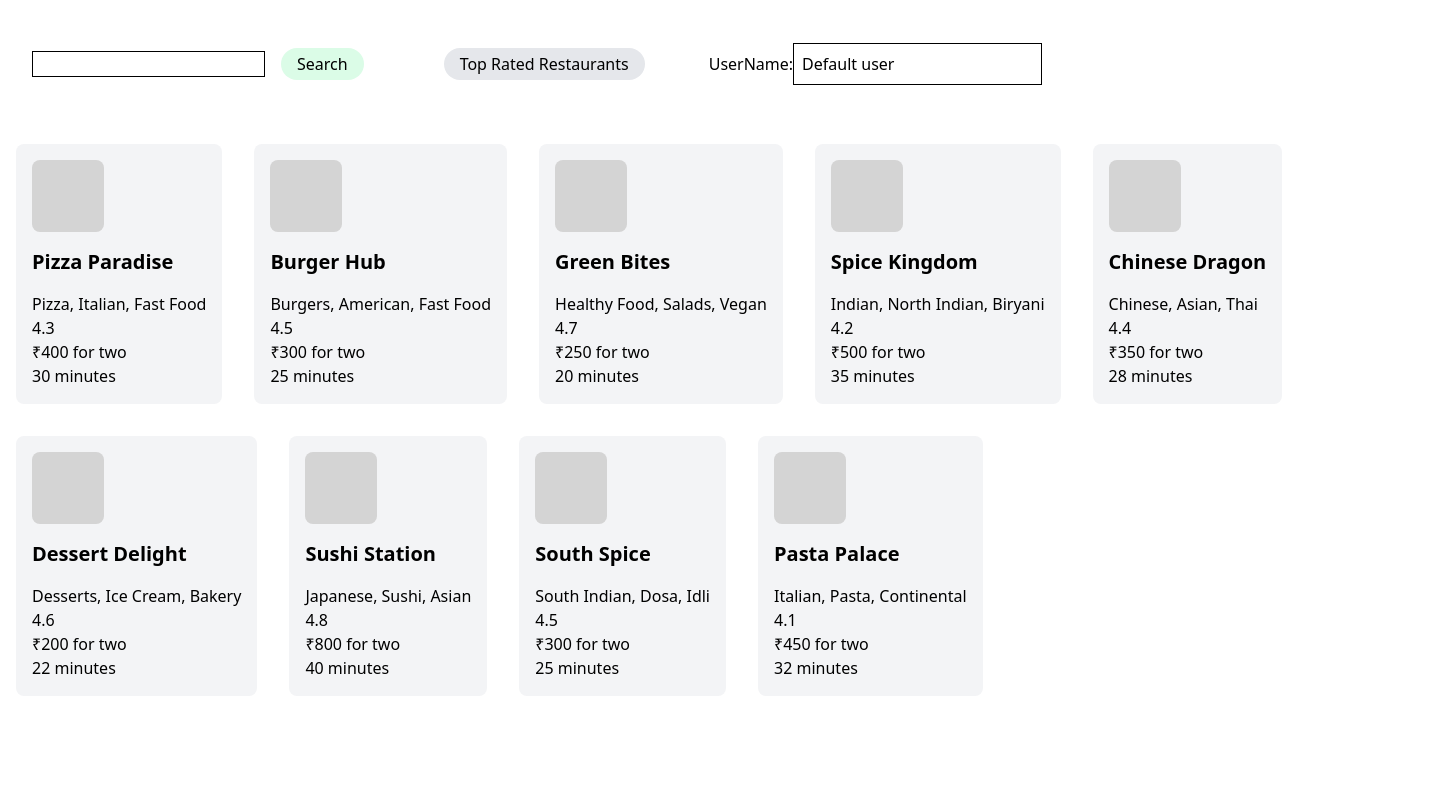
Scenario: Should filter Top Rated Restaurant
This screenshot has width=1440, height=810.
Click the button "Top Rated Restaurants" at (544,64), box 444,48 -> 645,80
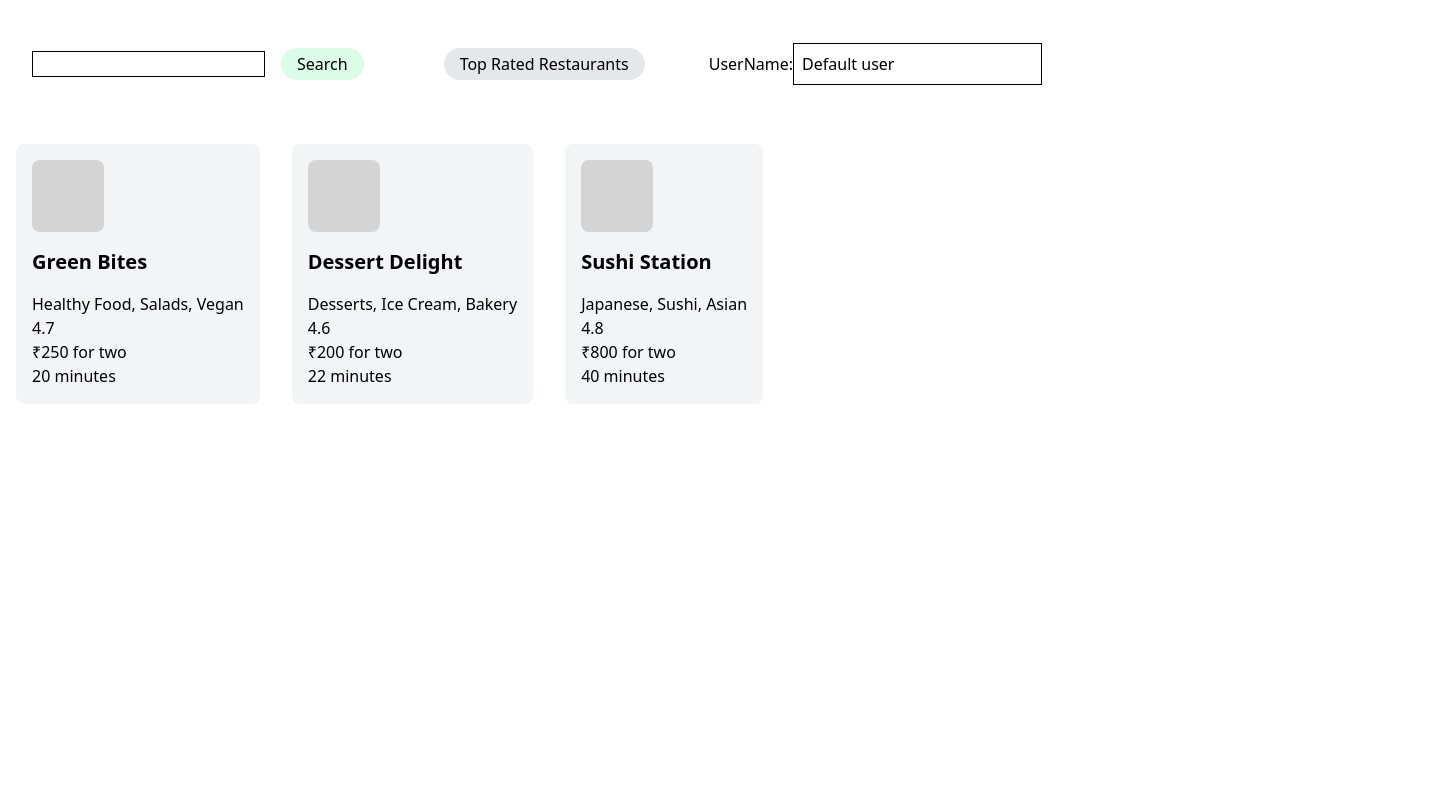
Expected: the number of elements with test id "resCard" is 3, 16,144 -> 260,404; 292,144 -> 533,404; 565,144 -> 763,404
